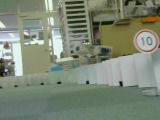speed_10: (132, 28, 160, 54)
